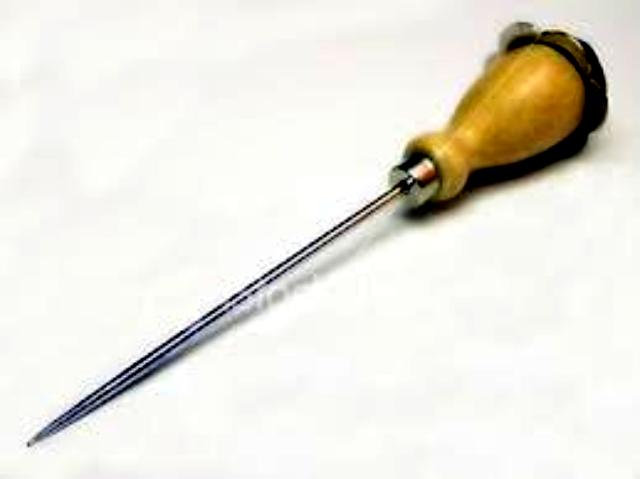ice pick: (20, 13, 612, 457)
